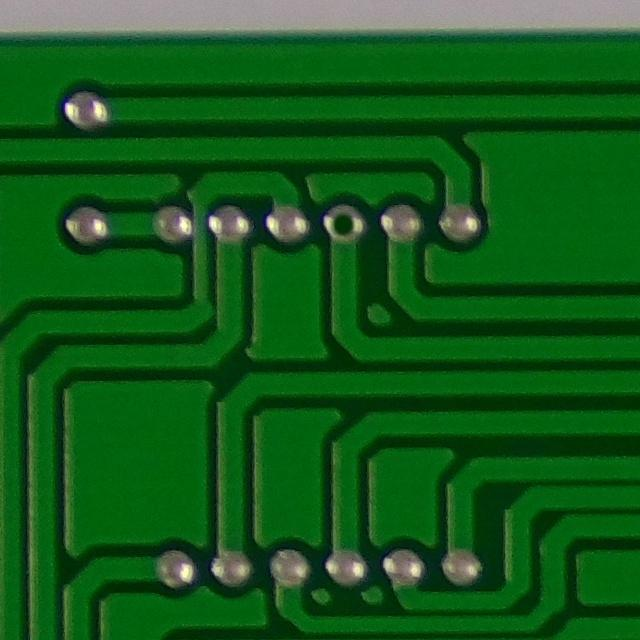missing_hole: (317, 197, 373, 253)
